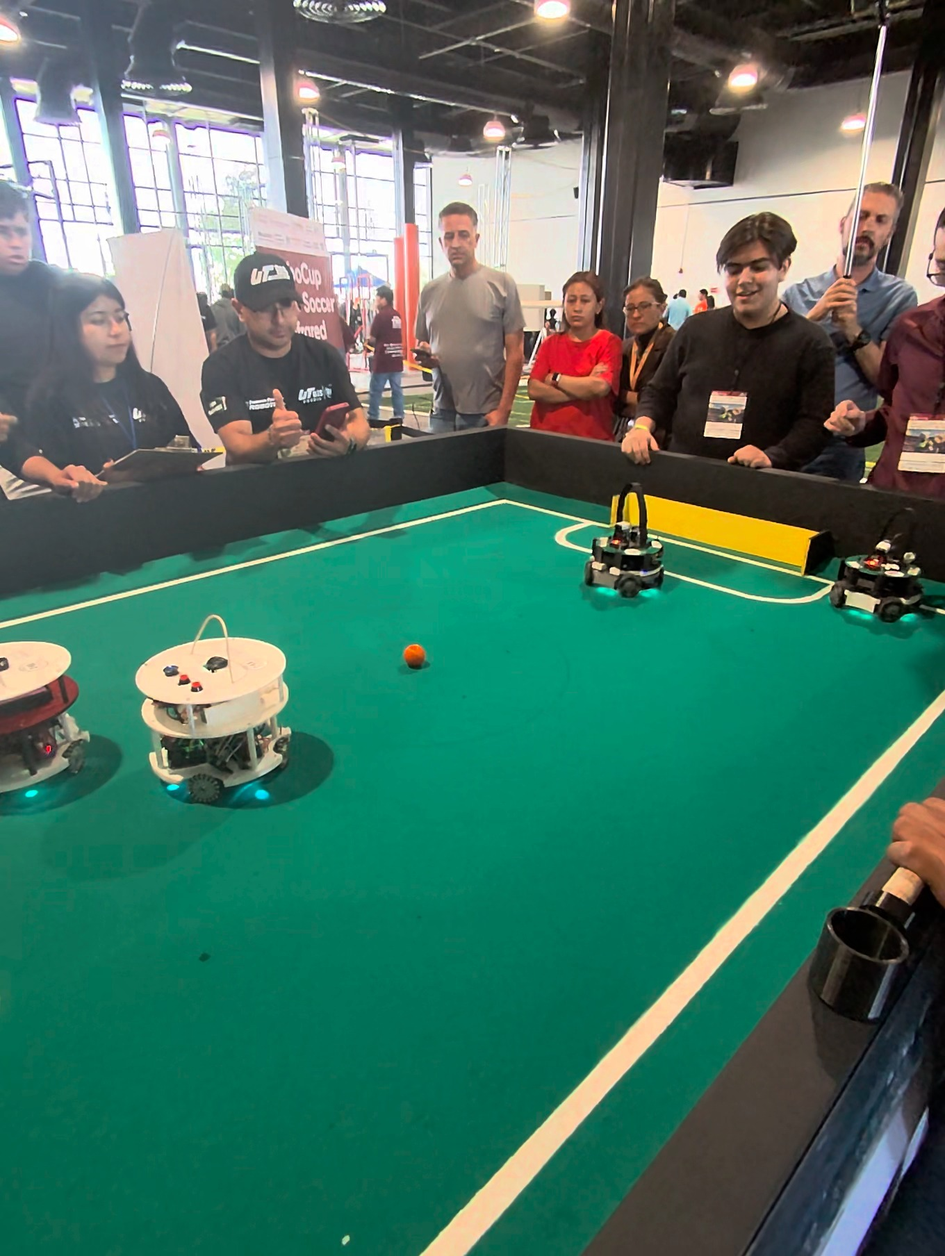Robot: (142, 605, 342, 832), (0, 623, 109, 811), (826, 504, 931, 634), (579, 480, 669, 616)
pelota: (404, 645, 426, 666)
